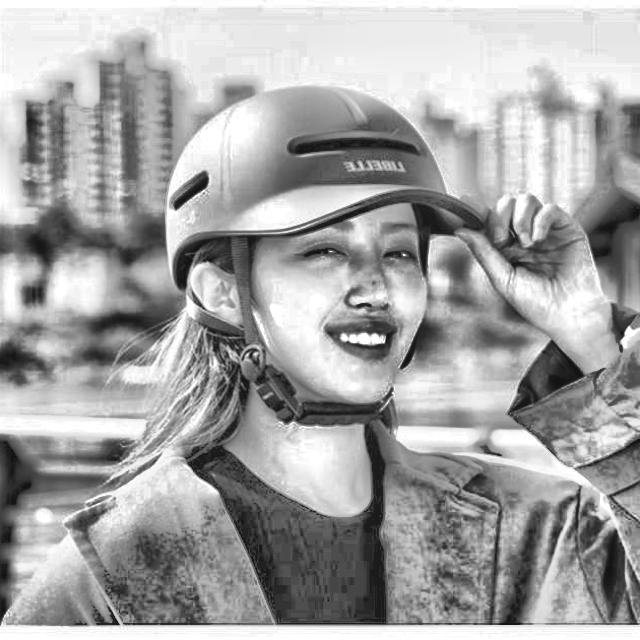Helmet: (157, 79, 488, 435)
